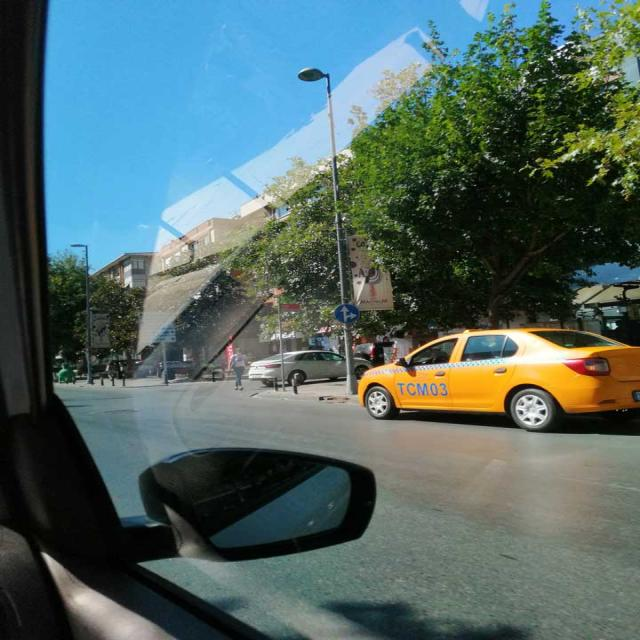ilerisag: (334, 304, 359, 323)
